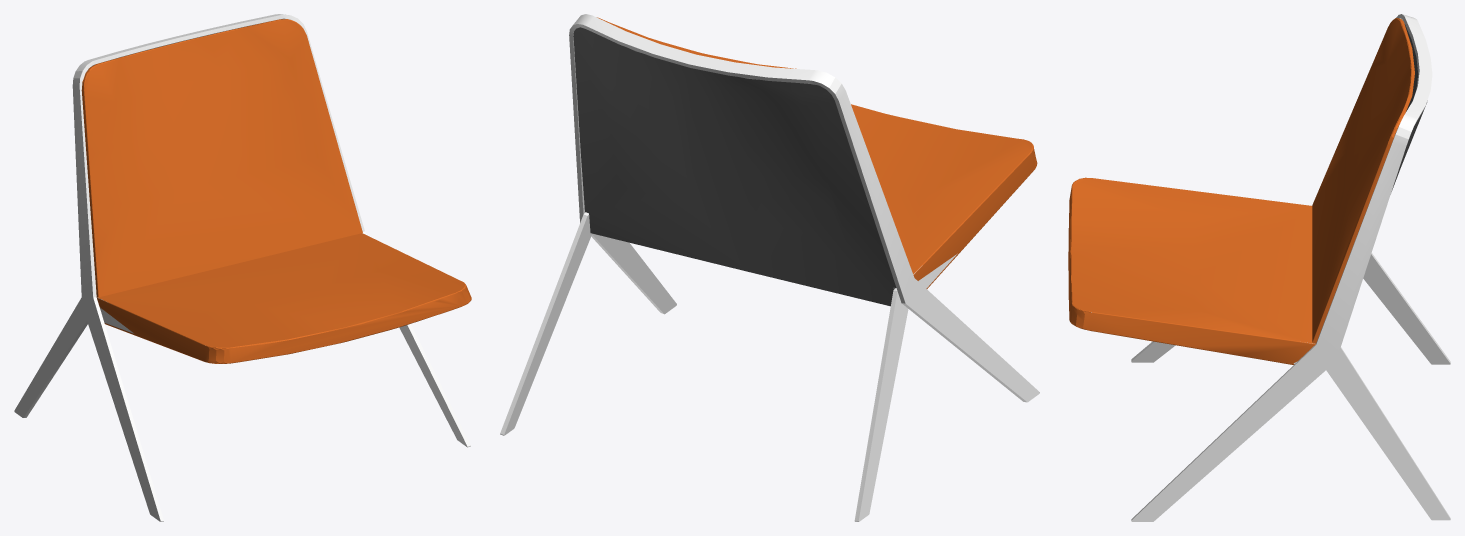
Rendered from Keele_chair.obj.
3 views of the same model, side by side, from view 1: azimuth 30°, elevation 25°; view 2: azimuth 150°, elevation 25°; view 3: azimuth 270°, elevation 25° (orthographic). The views are drawn at different scales.
Parts seen in each view (by area): view 1: Mesh8 Group3 Keele_Lounge_chair Model, Mesh7 Group2 Keele_Lounge_chair Model, Mesh2 Group1 Keele_Lounge_chair Model, Mesh1 Group1 Keele_Lounge_chair Model; view 2: Mesh9 Group4 Keele_Lounge_chair Model, Mesh7 Group2 Keele_Lounge_chair Model, Mesh2 Group1 Keele_Lounge_chair Model, Mesh1 Group1 Keele_Lounge_chair Model; view 3: Mesh7 Group2 Keele_Lounge_chair Model, Mesh8 Group3 Keele_Lounge_chair Model, Mesh2 Group1 Keele_Lounge_chair Model, Mesh1 Group1 Keele_Lounge_chair Model, Mesh9 Group4 Keele_Lounge_chair Model.
Part boxes in pixels (left/top/right/bottom): Mesh8 Group3 Keele_Lounge_chair Model: left=81, top=19, right=362, bottom=297; Mesh7 Group2 Keele_Lounge_chair Model: left=97, top=233, right=471, bottom=363; Mesh2 Group1 Keele_Lounge_chair Model: left=72, top=14, right=470, bottom=521; Mesh1 Group1 Keele_Lounge_chair Model: left=14, top=233, right=363, bottom=417; Mesh9 Group4 Keele_Lounge_chair Model: left=573, top=27, right=896, bottom=306; Mesh7 Group2 Keele_Lounge_chair Model: left=851, top=104, right=1037, bottom=288; Mesh2 Group1 Keele_Lounge_chair Model: left=569, top=14, right=1039, bottom=402; Mesh1 Group1 Keele_Lounge_chair Model: left=500, top=212, right=957, bottom=521; Mesh7 Group2 Keele_Lounge_chair Model: left=1068, top=177, right=1315, bottom=364; Mesh8 Group3 Keele_Lounge_chair Model: left=1312, top=18, right=1414, bottom=343; Mesh2 Group1 Keele_Lounge_chair Model: left=1131, top=14, right=1432, bottom=521; Mesh1 Group1 Keele_Lounge_chair Model: left=1091, top=204, right=1450, bottom=520; Mesh9 Group4 Keele_Lounge_chair Model: left=1391, top=24, right=1427, bottom=191.
Bounding box in the file's own units: 28.08 × 30.51 × 28.08.
